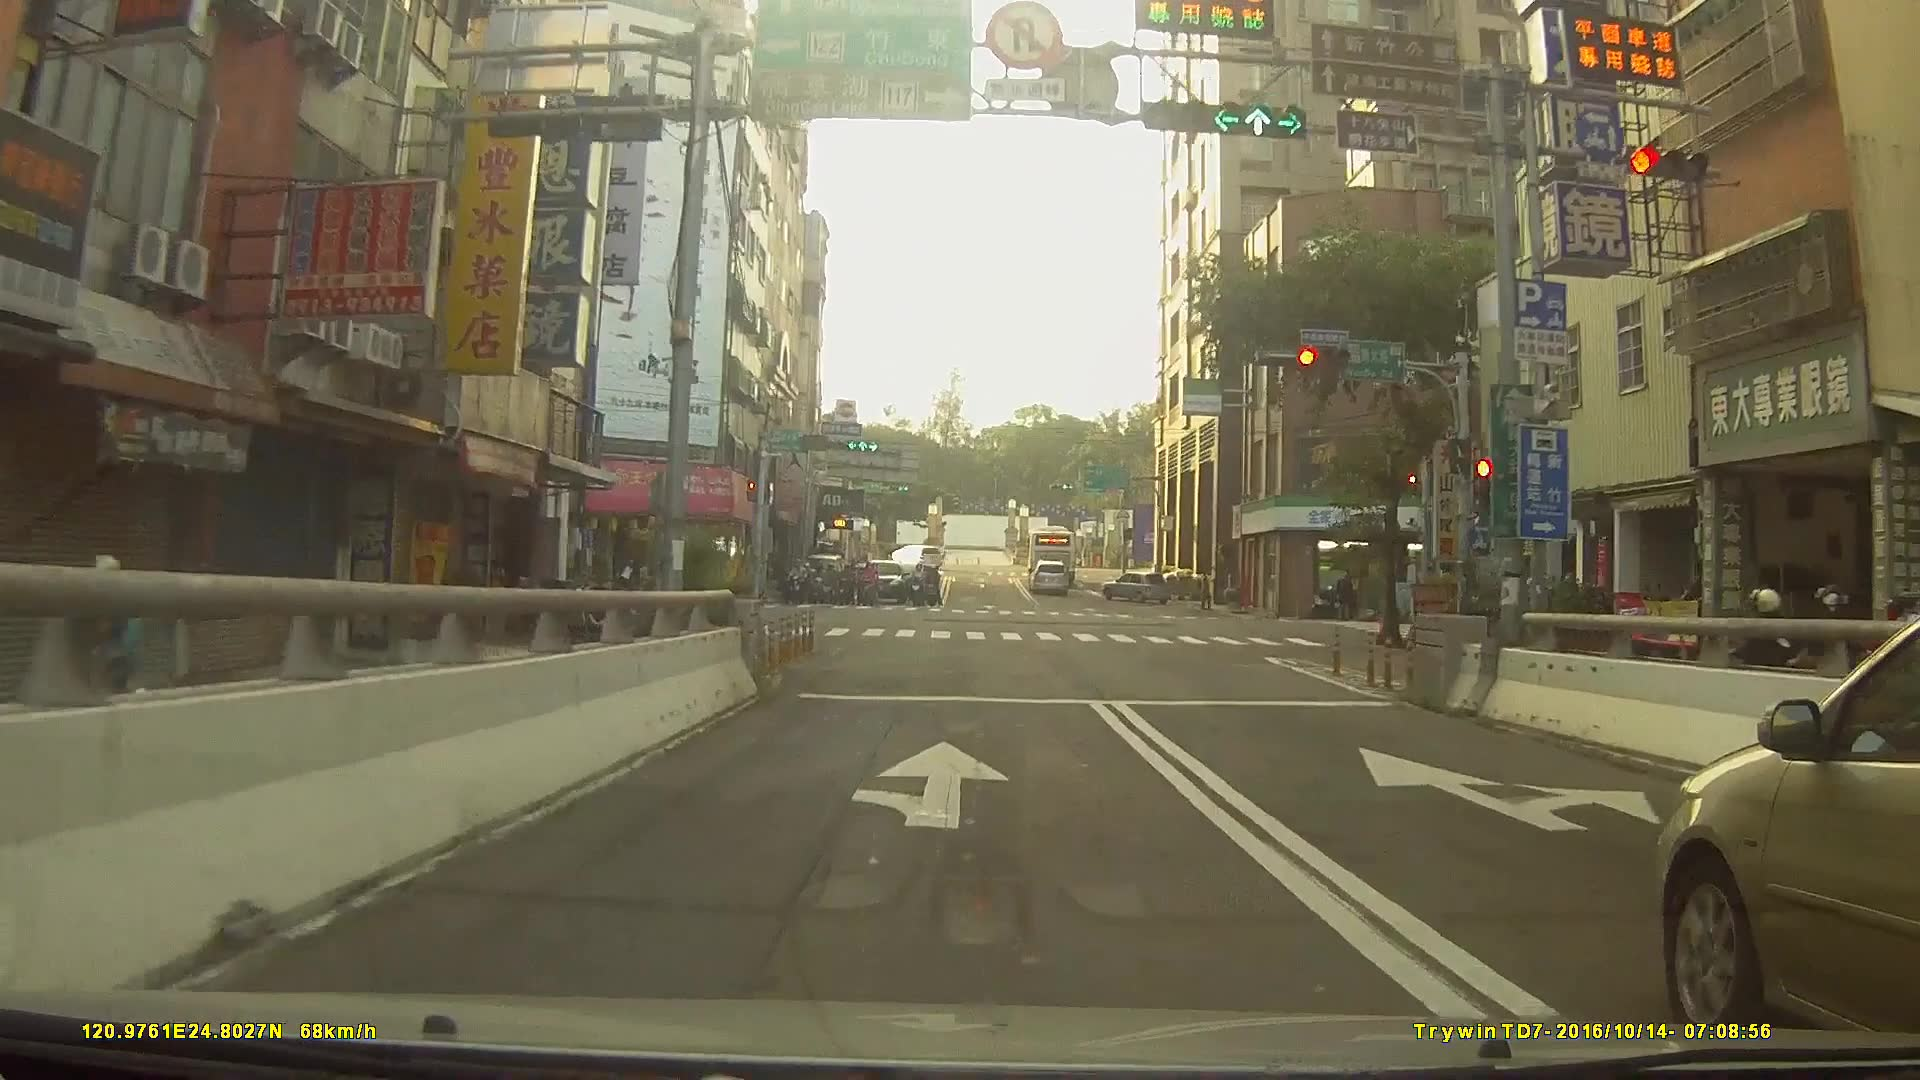pedestrian: (1335, 571, 1357, 626), (1197, 588, 1217, 613)
rider: (52, 555, 151, 766)
vehicle: (1657, 610, 1920, 1039), (1024, 531, 1078, 581), (1101, 571, 1174, 606), (858, 561, 907, 606), (887, 544, 943, 571), (1030, 563, 1072, 598)
